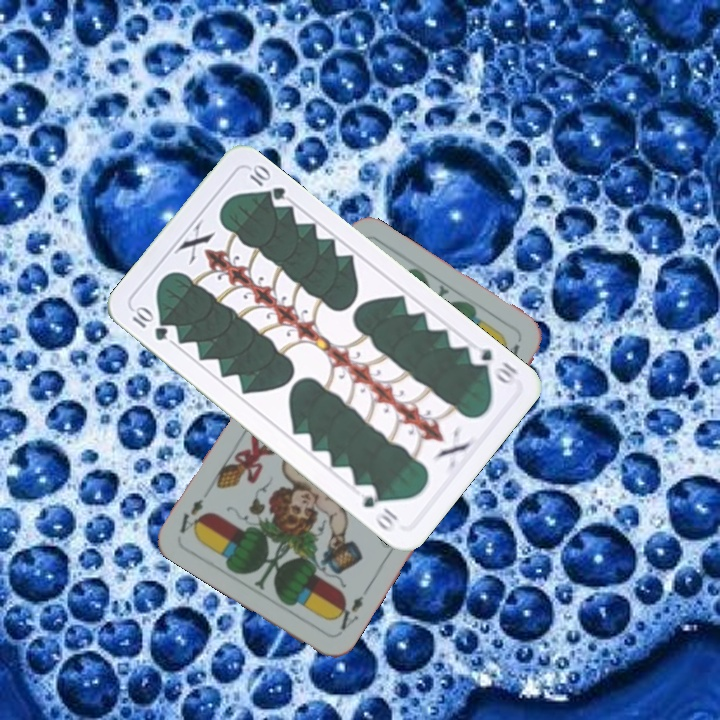EA: (329, 584, 371, 633)
G10: (464, 341, 521, 389), (128, 303, 171, 344)
